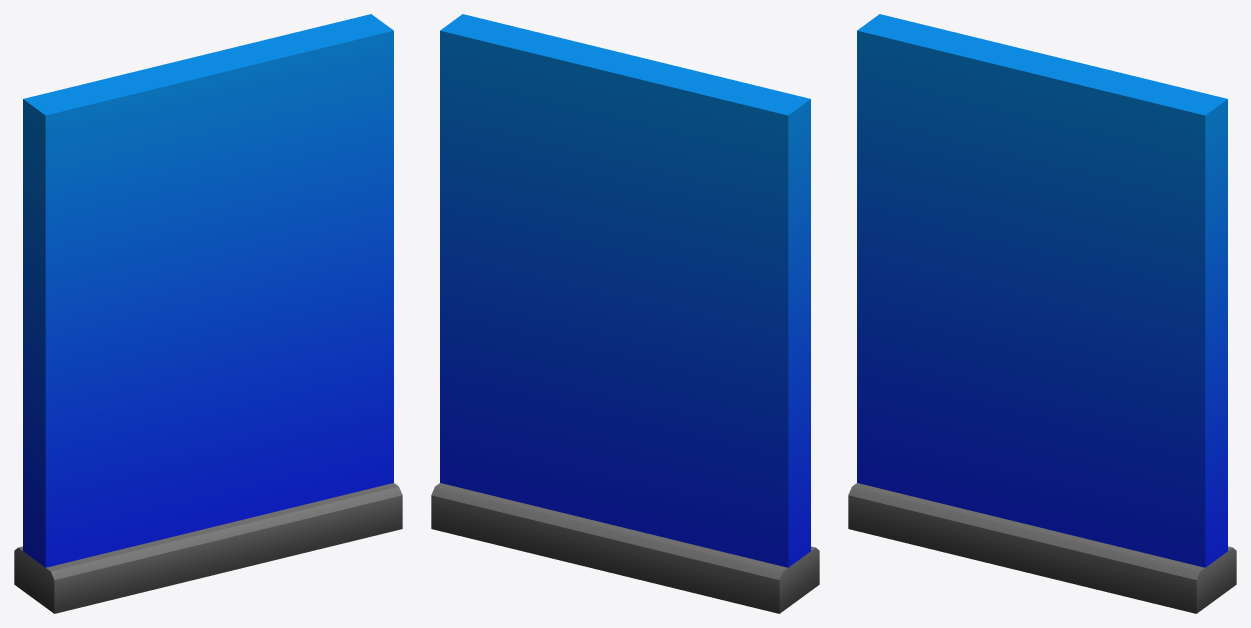
The model's file is Wall_01.fbx.
3 renders of one model, left to right at view 1: azimuth 30°, elevation 25°; view 2: azimuth 150°, elevation 25°; view 3: azimuth 330°, elevation 25°, orthographic.
Parts seen in each view (by area): view 1: Wall_01; view 2: Wall_01; view 3: Wall_01.
Boxes of the visible parts, x1,y1,x2,y2 form: Wall_01: [14, 14, 402, 613]; Wall_01: [431, 14, 819, 613]; Wall_01: [848, 14, 1236, 613].
Size of the model in its own units: 200 by 270 by 40.
